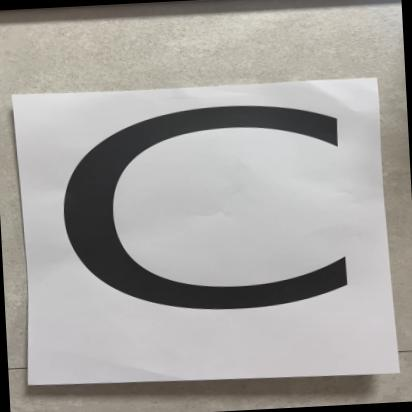seat: (12, 72, 402, 387)
